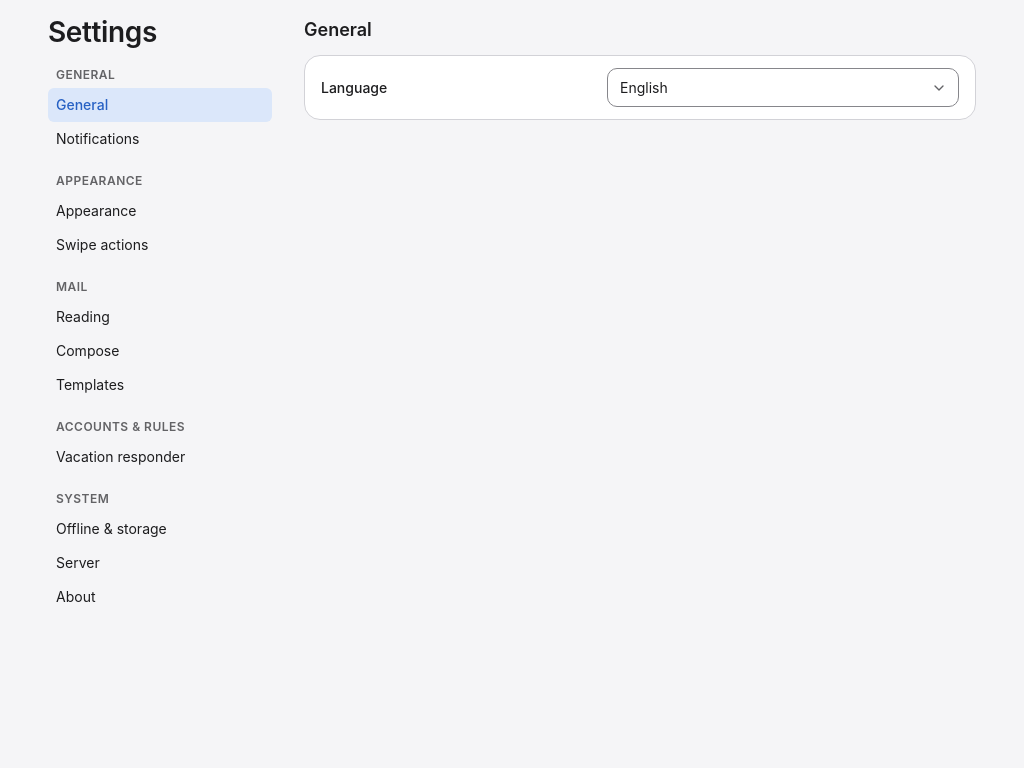
Test: leaving a settings section with unsaved input › asks before another rail entry throws the draft away
Click the link "Vacation responder": [121, 457] box [56, 448, 185, 465]
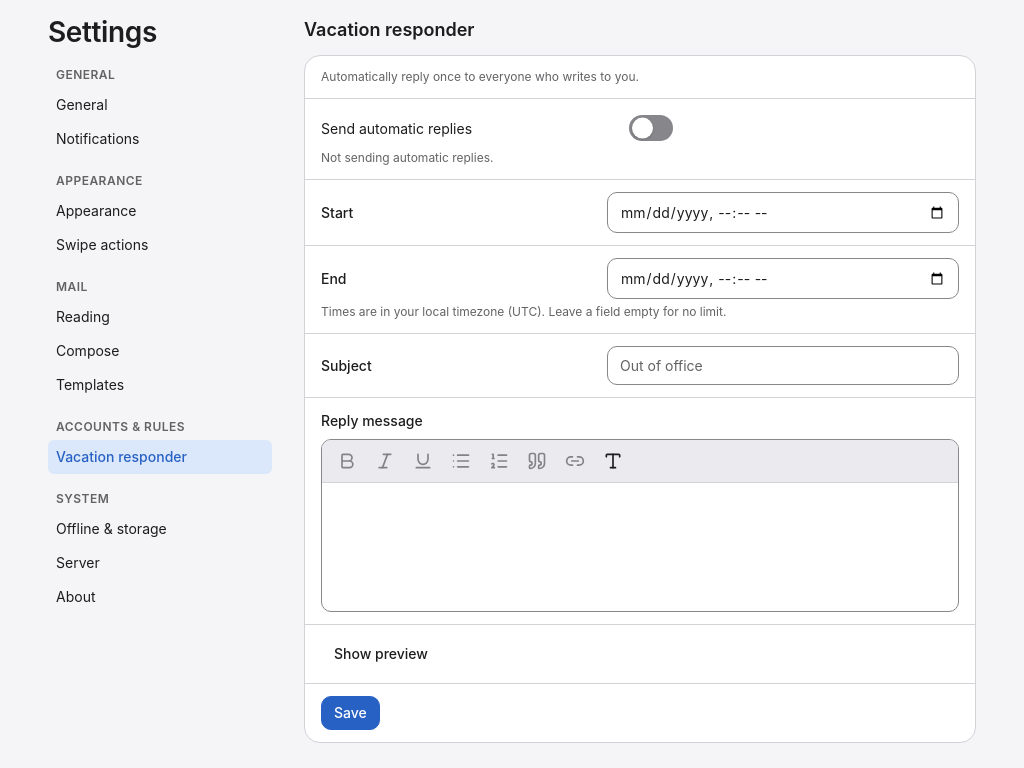
Check: the switch named "Send automatic replies" is shown
Click the switch named "Send automatic replies": [651, 128] box [629, 111, 673, 145]
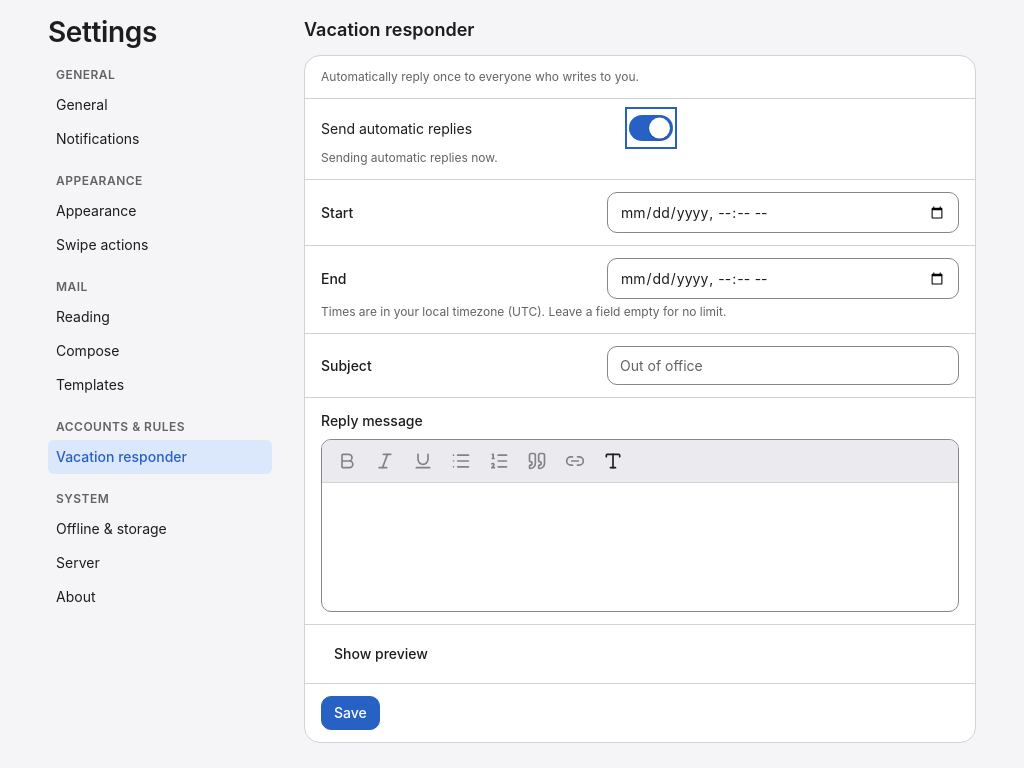
Click the link "General": [82, 105] box [56, 96, 108, 113]
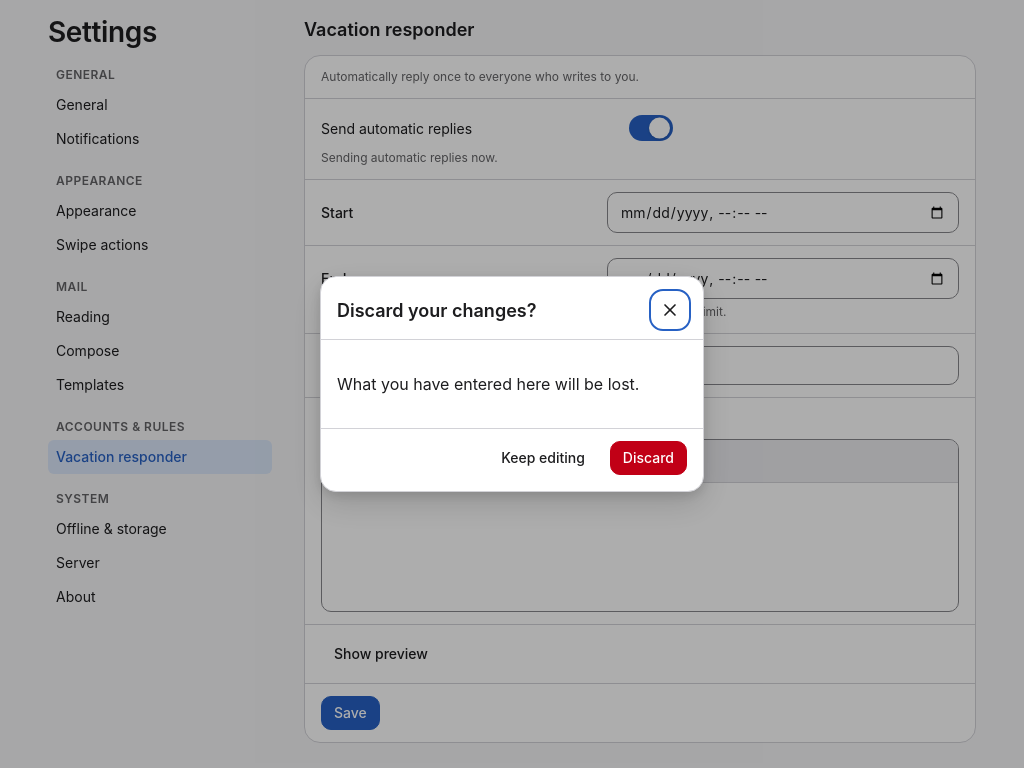
Check: the switch named "Send automatic replies" is shown, box [629, 111, 673, 145]
Check: the heading "Discard your changes?" is shown, box [337, 296, 536, 324]
